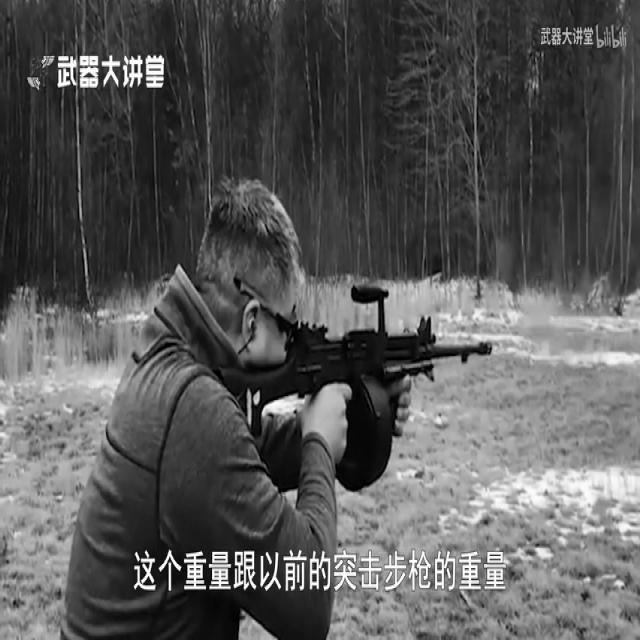Sniper: (137, 242, 554, 562)
